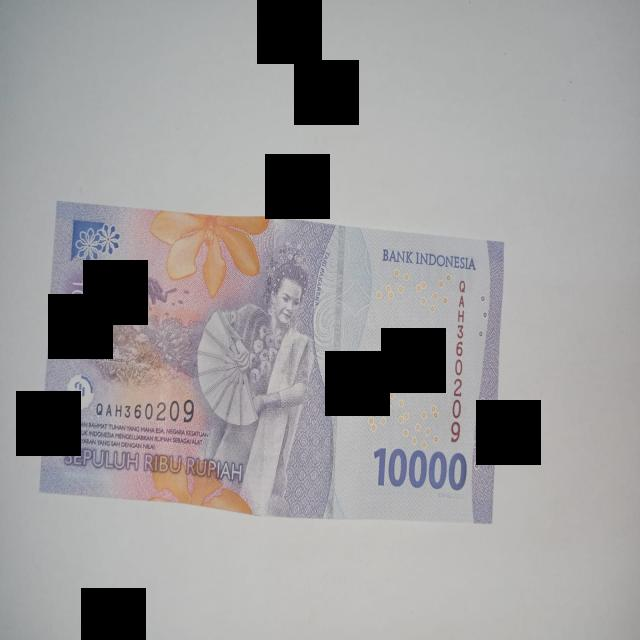sepuluhribu rupiah: (40, 203, 504, 522)
